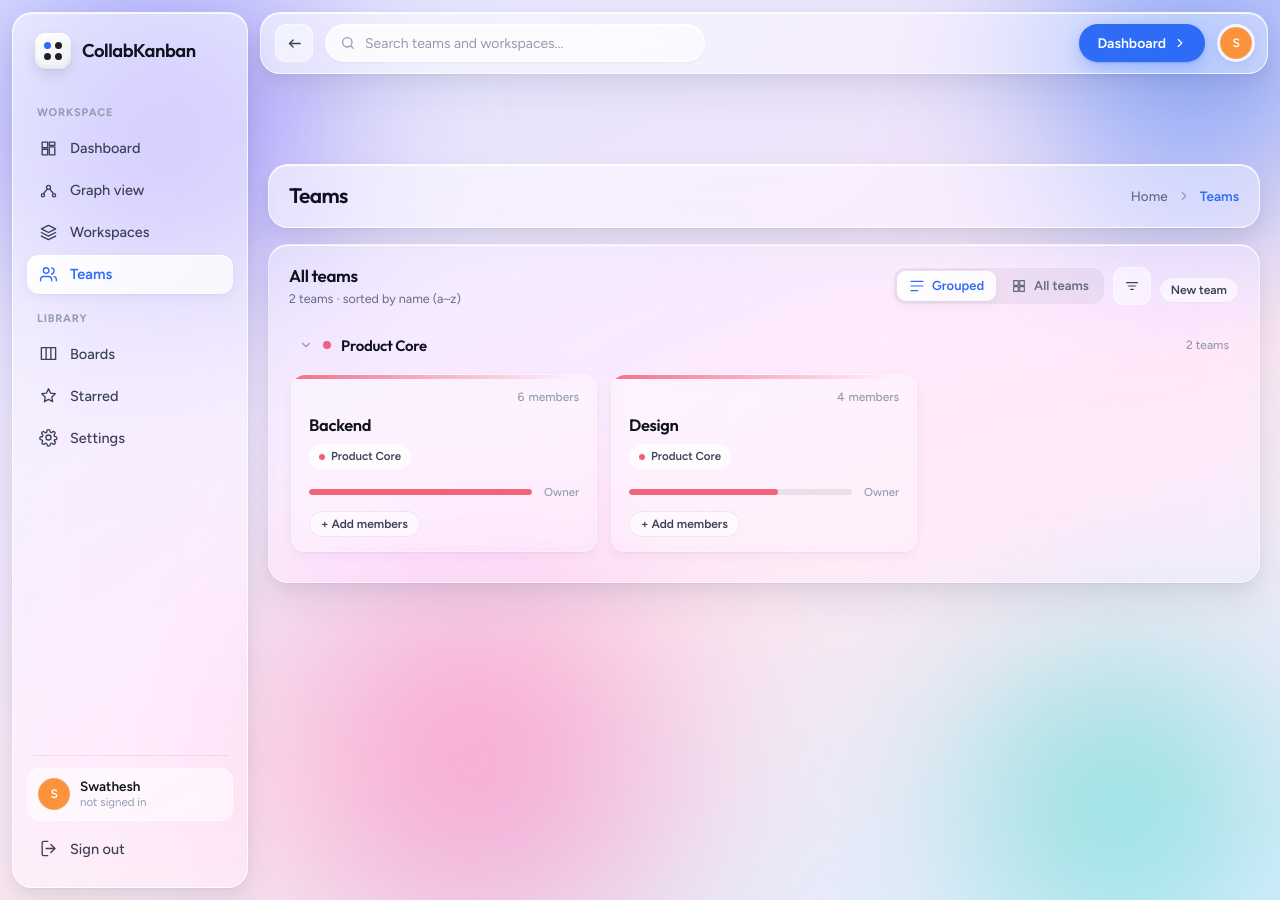
it: TeamsPage › reorders the grid when the sort changes
Expected: the heading "Design" is shown, left=629, top=414, right=678, bottom=435
Click the button named "Sort teams" at (1132, 286), box left=1113, top=267, right=1151, bottom=305
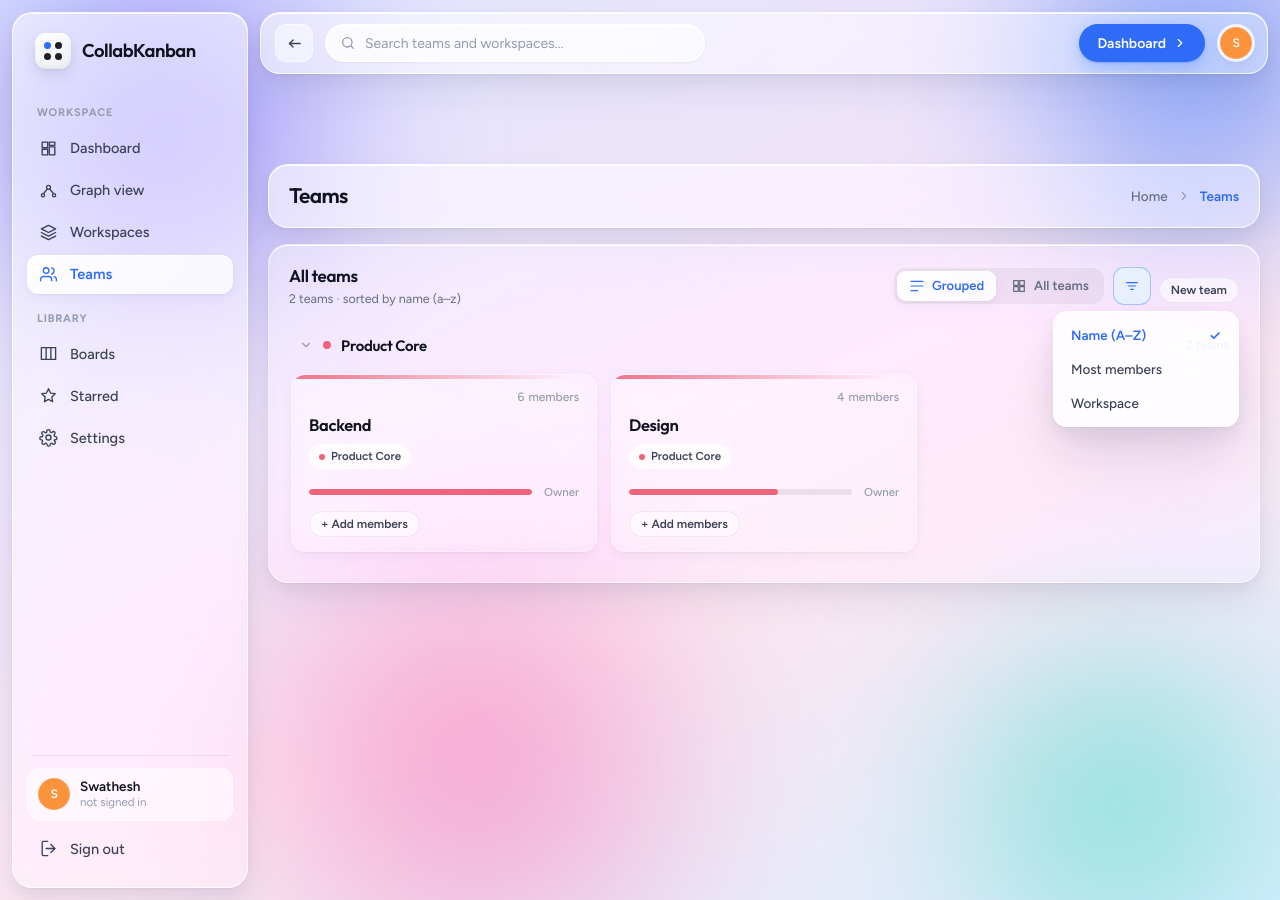
Click the menu item "Most members" at (1146, 369), box left=1060, top=352, right=1232, bottom=386
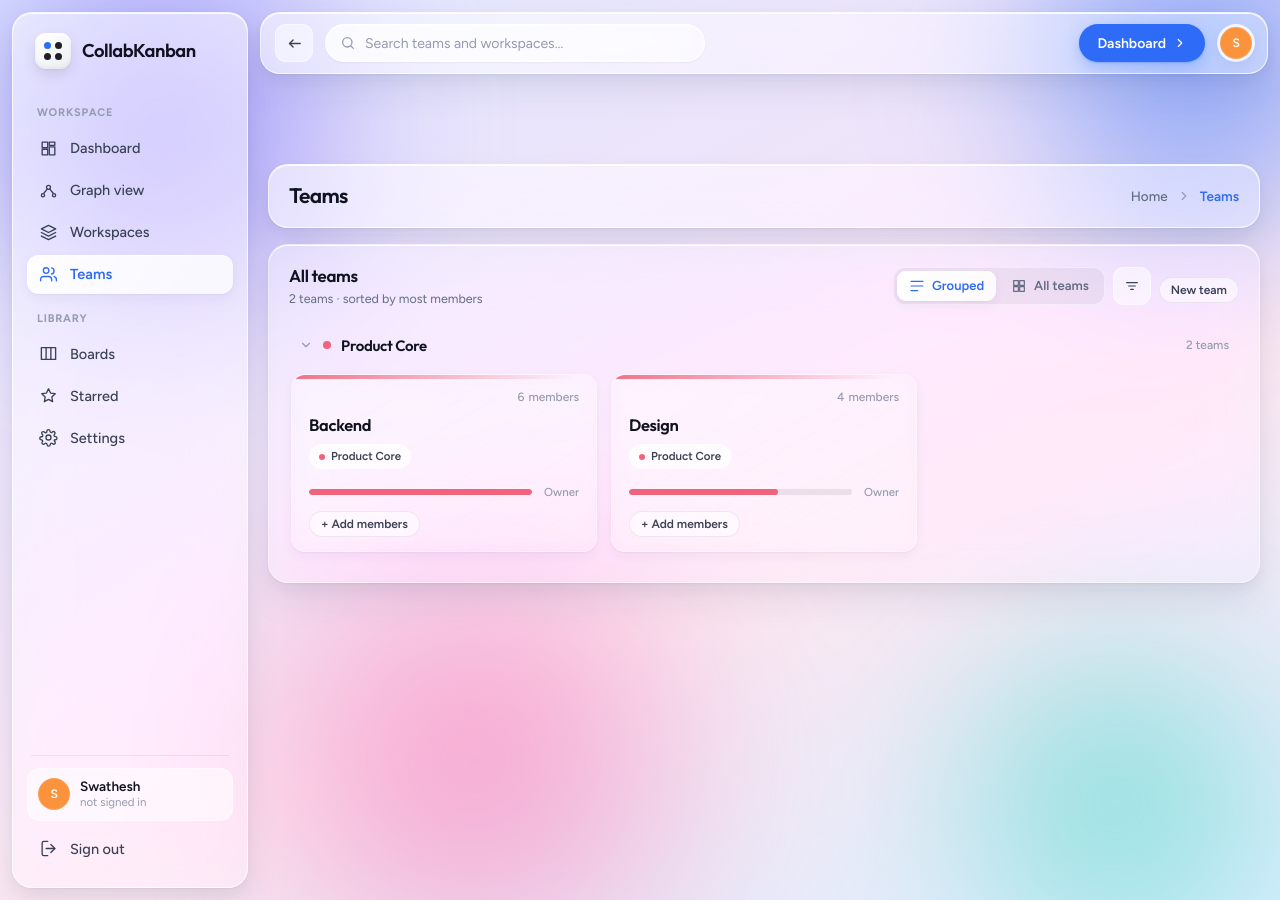
Expected: the text "2 teams · sorted by most members" is shown, left=289, top=290, right=483, bottom=309
